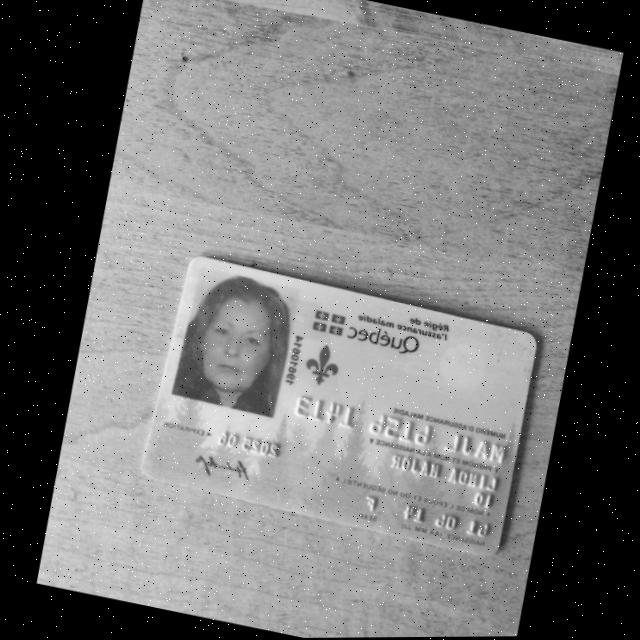card: (143, 258, 534, 555)
